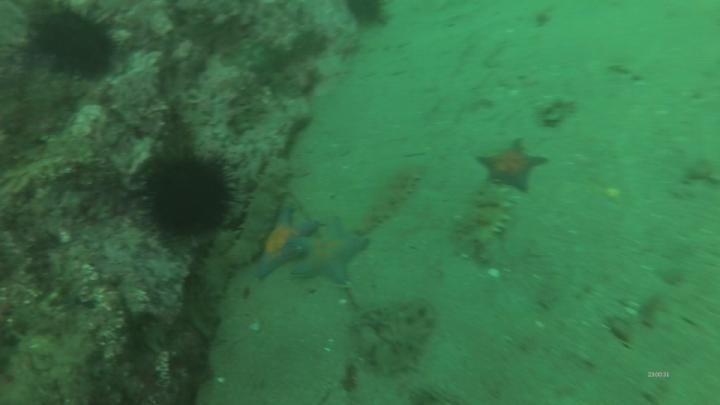echinus: (138, 149, 238, 243), (27, 5, 122, 82), (341, 1, 393, 32)
holothurian: (225, 154, 297, 269), (351, 162, 426, 238), (192, 228, 241, 317), (461, 181, 516, 255), (364, 291, 429, 326), (384, 314, 427, 354), (364, 339, 414, 370)
starfish: (289, 218, 370, 288), (251, 206, 322, 282), (473, 137, 550, 195)
